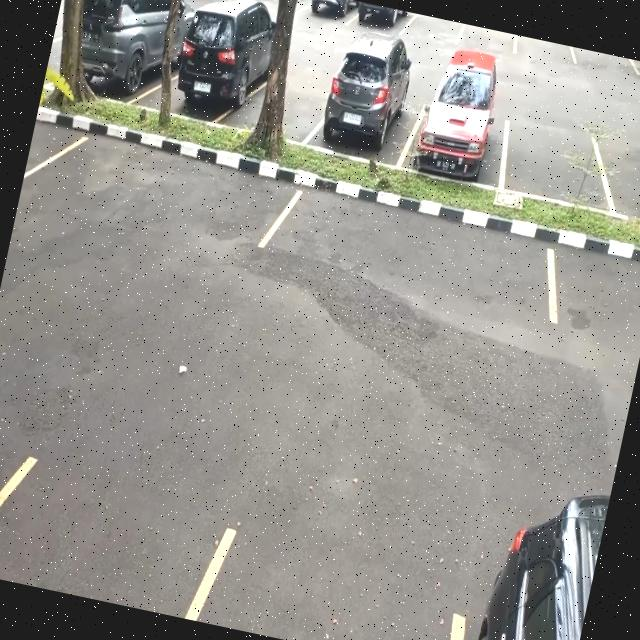empty: (271, 162, 574, 326), (32, 110, 293, 252), (498, 110, 616, 211), (598, 125, 640, 222)
occupied: (308, 41, 429, 167), (168, 0, 278, 131), (404, 65, 519, 189), (68, 0, 179, 110)
